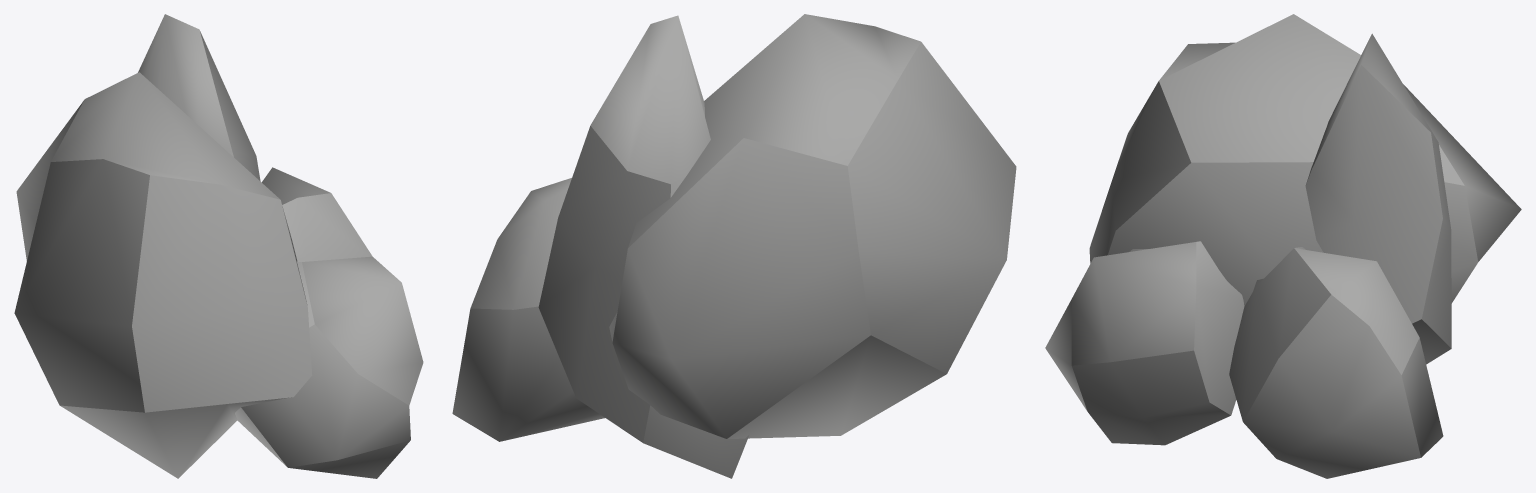
Rendered from Rock004.FBX.
3 views of the same model, side by side, from view 1: azimuth 30°, elevation 25°; view 2: azimuth 150°, elevation 25°; view 3: azimuth 270°, elevation 25° (orthographic). The views are drawn at different scales.
Parts seen in each view (by area): view 1: Rock004; view 2: Rock004; view 3: Rock004.
Boxes of the visible parts, bbox=[...] form: Rock004: bbox=[14, 14, 423, 478]; Rock004: bbox=[452, 14, 1016, 478]; Rock004: bbox=[1045, 14, 1521, 478].
Size of the model in its own units: 195 by 180 by 203.
